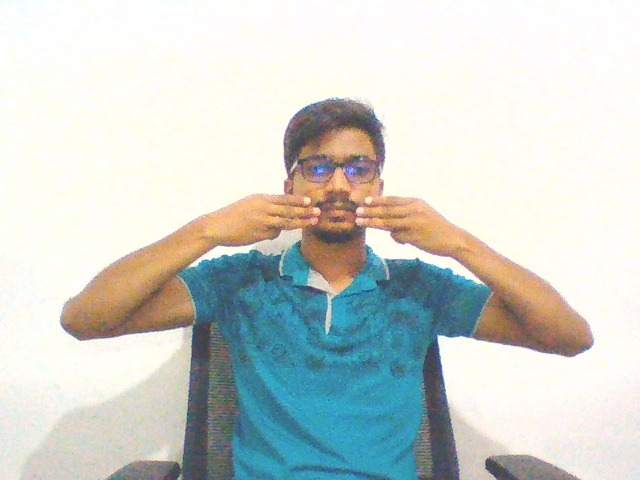cat: (185, 175, 491, 273)
